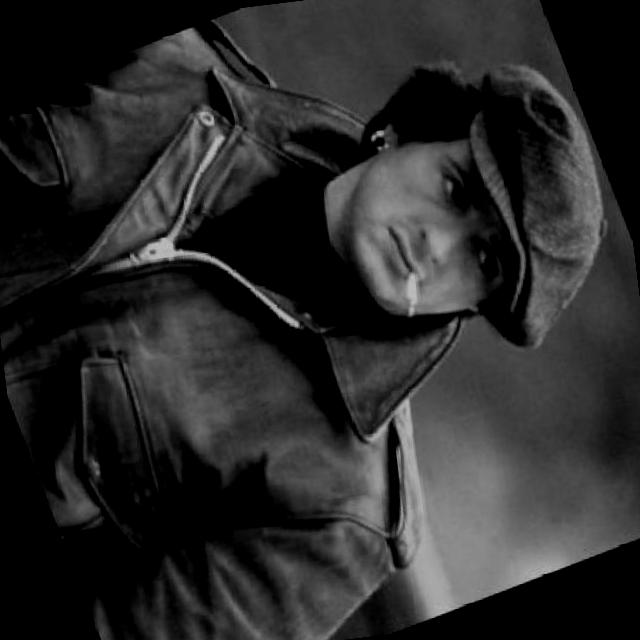cigarette: (391, 267, 434, 325)
